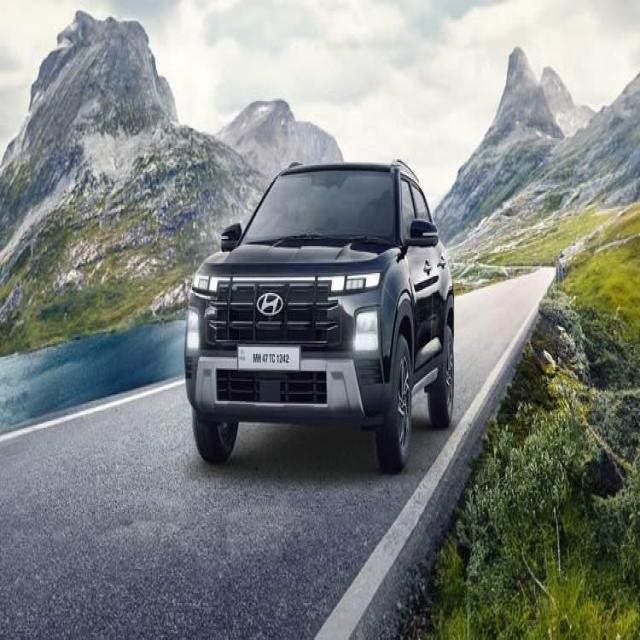car: (179, 150, 455, 478)
